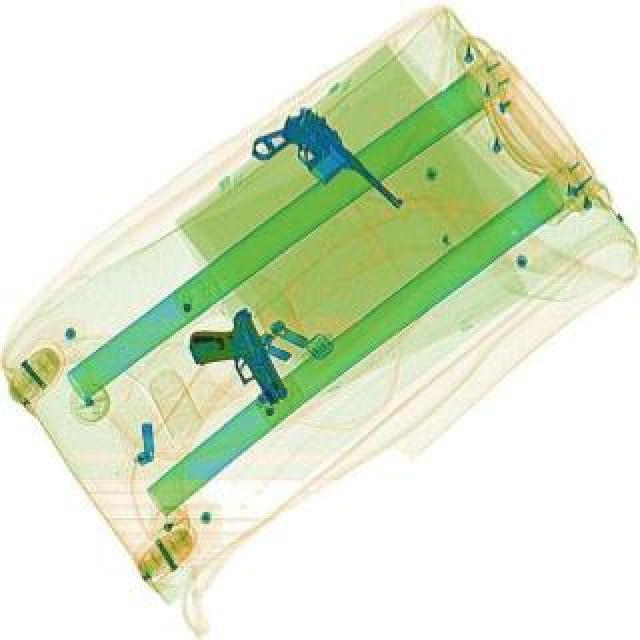gun: (244, 98, 404, 248), (178, 302, 292, 424)
